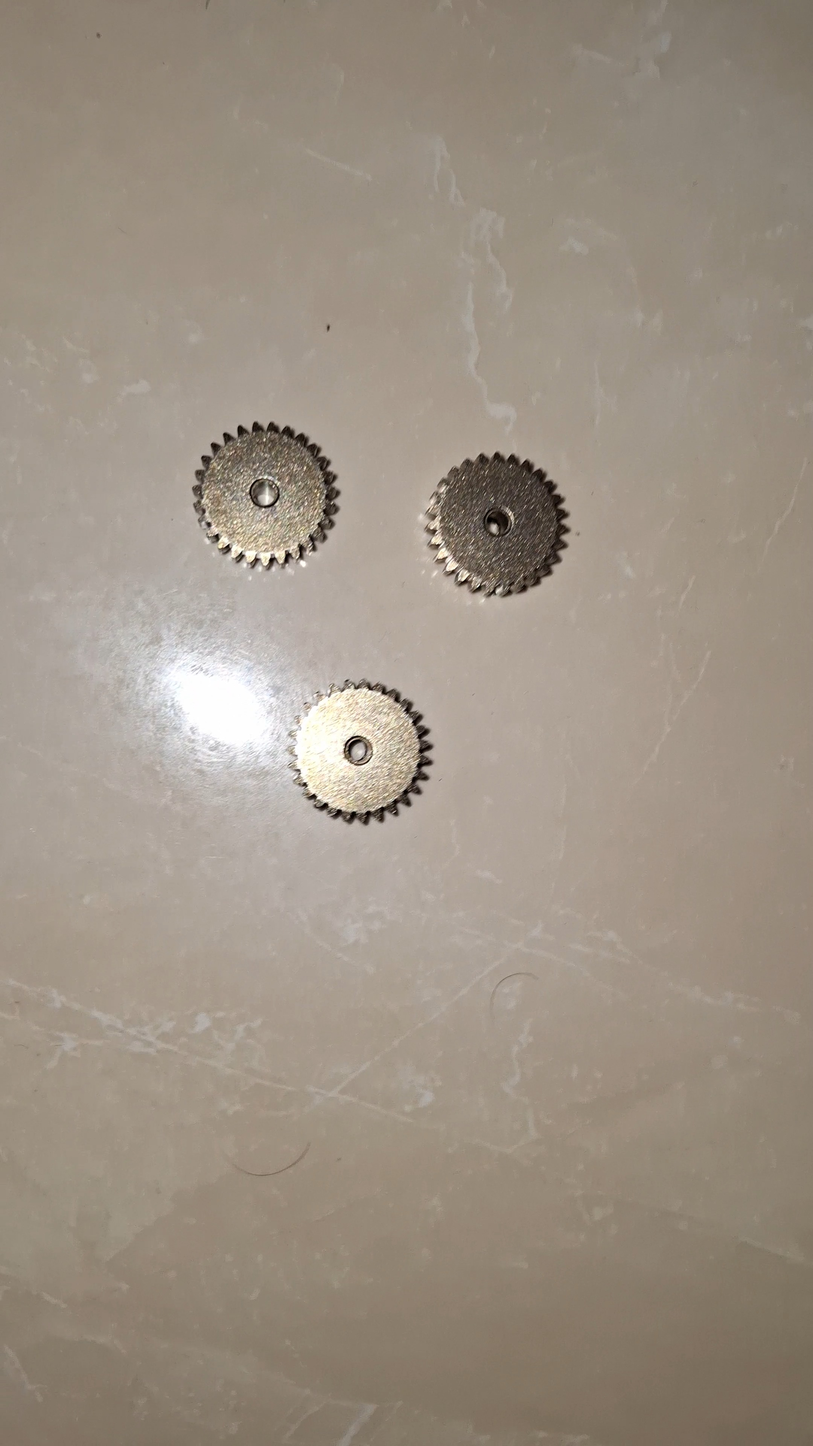spur gear: (193, 423, 337, 567), (426, 453, 568, 595), (291, 681, 429, 822)
